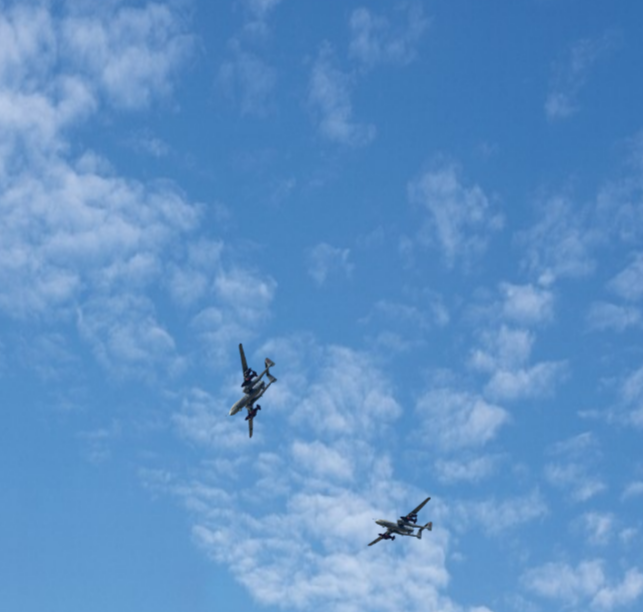military drone: (228, 343, 277, 439), (367, 496, 432, 545)
